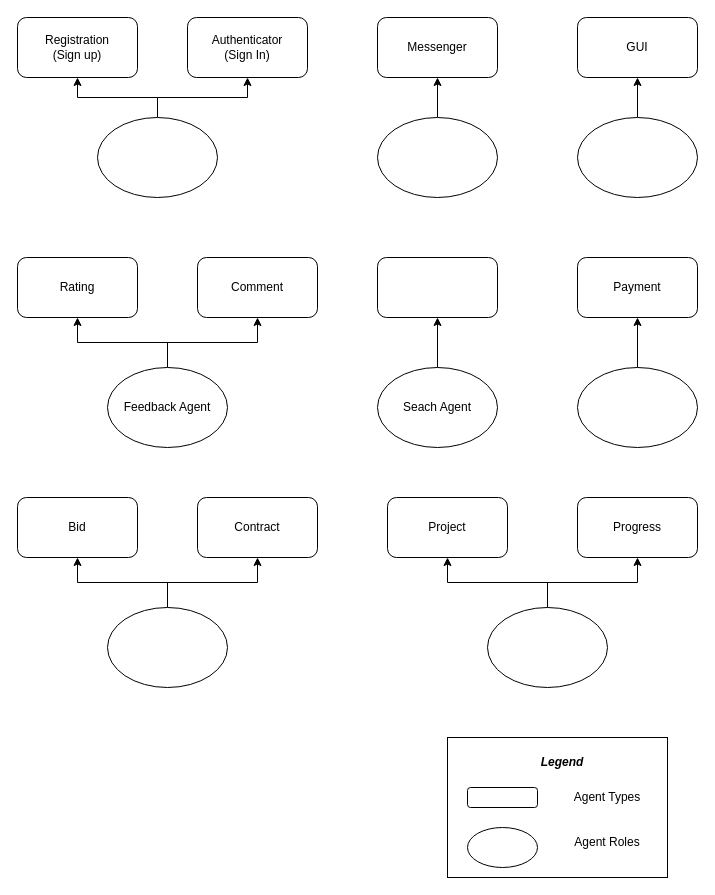
Image size: 715x895. Some labels were removed from this diagram. The shapes that lost their labels are listed below. From the top down, each one's centre as x and y in pixels, then its label:
At (x=157, y=157): "Access Agent".
At (x=437, y=157): "Chatroom Agent".
At (x=637, y=157): "Presenter Agent".
At (x=437, y=287): "Serach".
At (x=637, y=407): "Transaction Agent".
At (x=167, y=647): "Booking Agent".
At (x=547, y=647): "Monitoring Agent".
